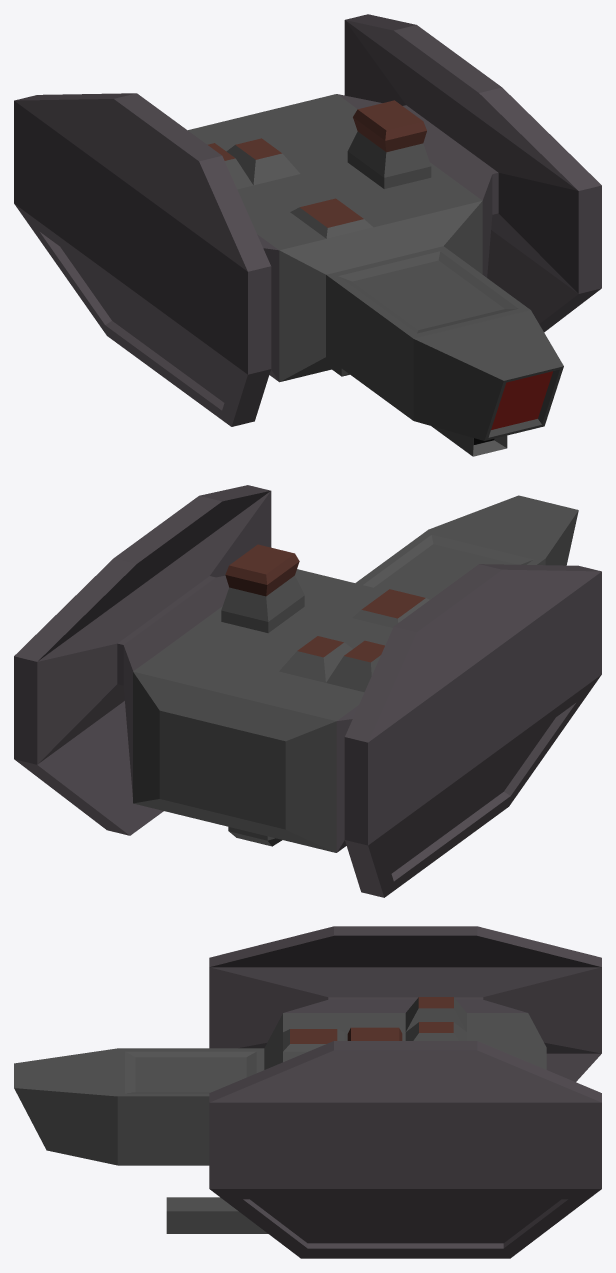
Rendered from Drone.fbx.
3 views of the same model, one above another, from view 1: azimuth 30°, elevation 25°; view 2: azimuth 150°, elevation 25°; view 3: azimuth 270°, elevation 25° (orthographic). The views are drawn at different scales.
Visible parts, largest first — view 1: Cube, Cube.001, Cube.002; view 2: Cube, Cube.001, Cube.002; view 3: Cube.002, Cube.001, Cube.
Part boxes in pixels (x1,y1,x2,y2): Cube: [188, 94, 563, 456]; Cube.001: [14, 93, 279, 426]; Cube.002: [337, 14, 601, 332]; Cube: [133, 495, 578, 852]; Cube.001: [336, 564, 601, 897]; Cube.002: [14, 485, 271, 835]; Cube.002: [209, 1041, 601, 1258]; Cube.001: [209, 926, 601, 1081]; Cube: [14, 997, 546, 1233].
Size of the model in its own units: 468 by 351 by 802.
